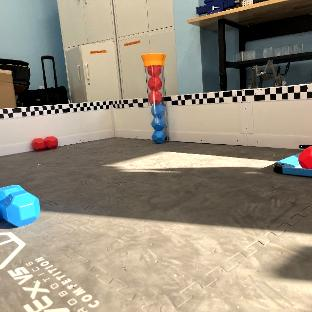V5_BLUE: (0, 185, 40, 226), (152, 104, 165, 142)
V5_RED: (142, 53, 168, 142), (147, 64, 162, 105), (31, 136, 58, 152), (298, 146, 312, 169)
